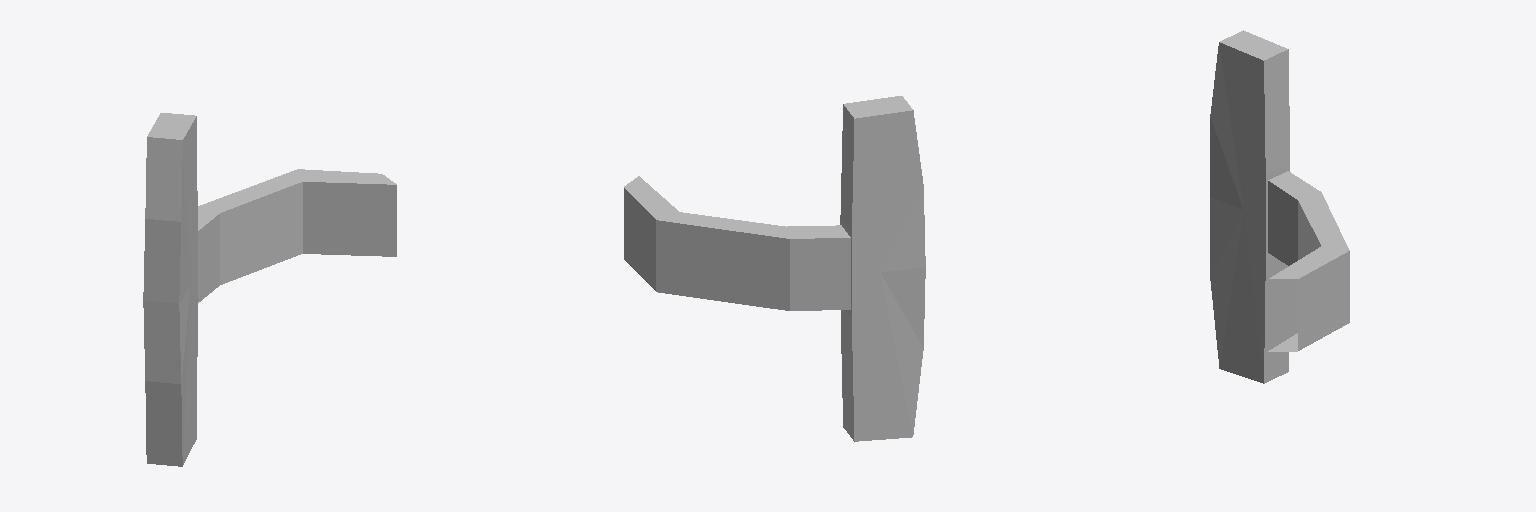
File: AltoSaxKeyUp11.obj
The picture shows the model from 3 angles: view 1: azimuth 30°, elevation 25°; view 2: azimuth 150°, elevation 25°; view 3: azimuth 270°, elevation 25°; orthographic projection.
Visible parts, largest first — view 1: Converted object 0(m1); view 2: Converted object 0(m1); view 3: Converted object 0(m1).
Part boxes in pixels (x1,y1,x2,y2): Converted object 0(m1): (143, 113, 396, 466); Converted object 0(m1): (624, 96, 925, 441); Converted object 0(m1): (1210, 30, 1349, 383).
Bounding box in the file's own units: 0.9393 × 1.08 × 0.4194.